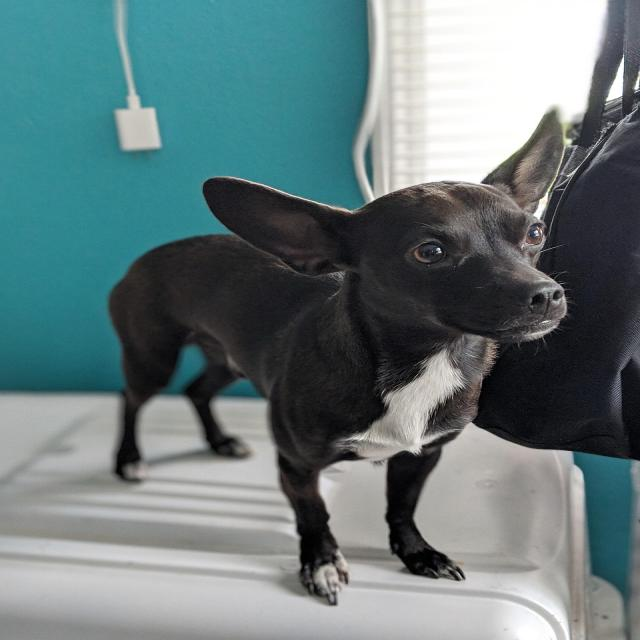dog: (119, 109, 571, 608)
